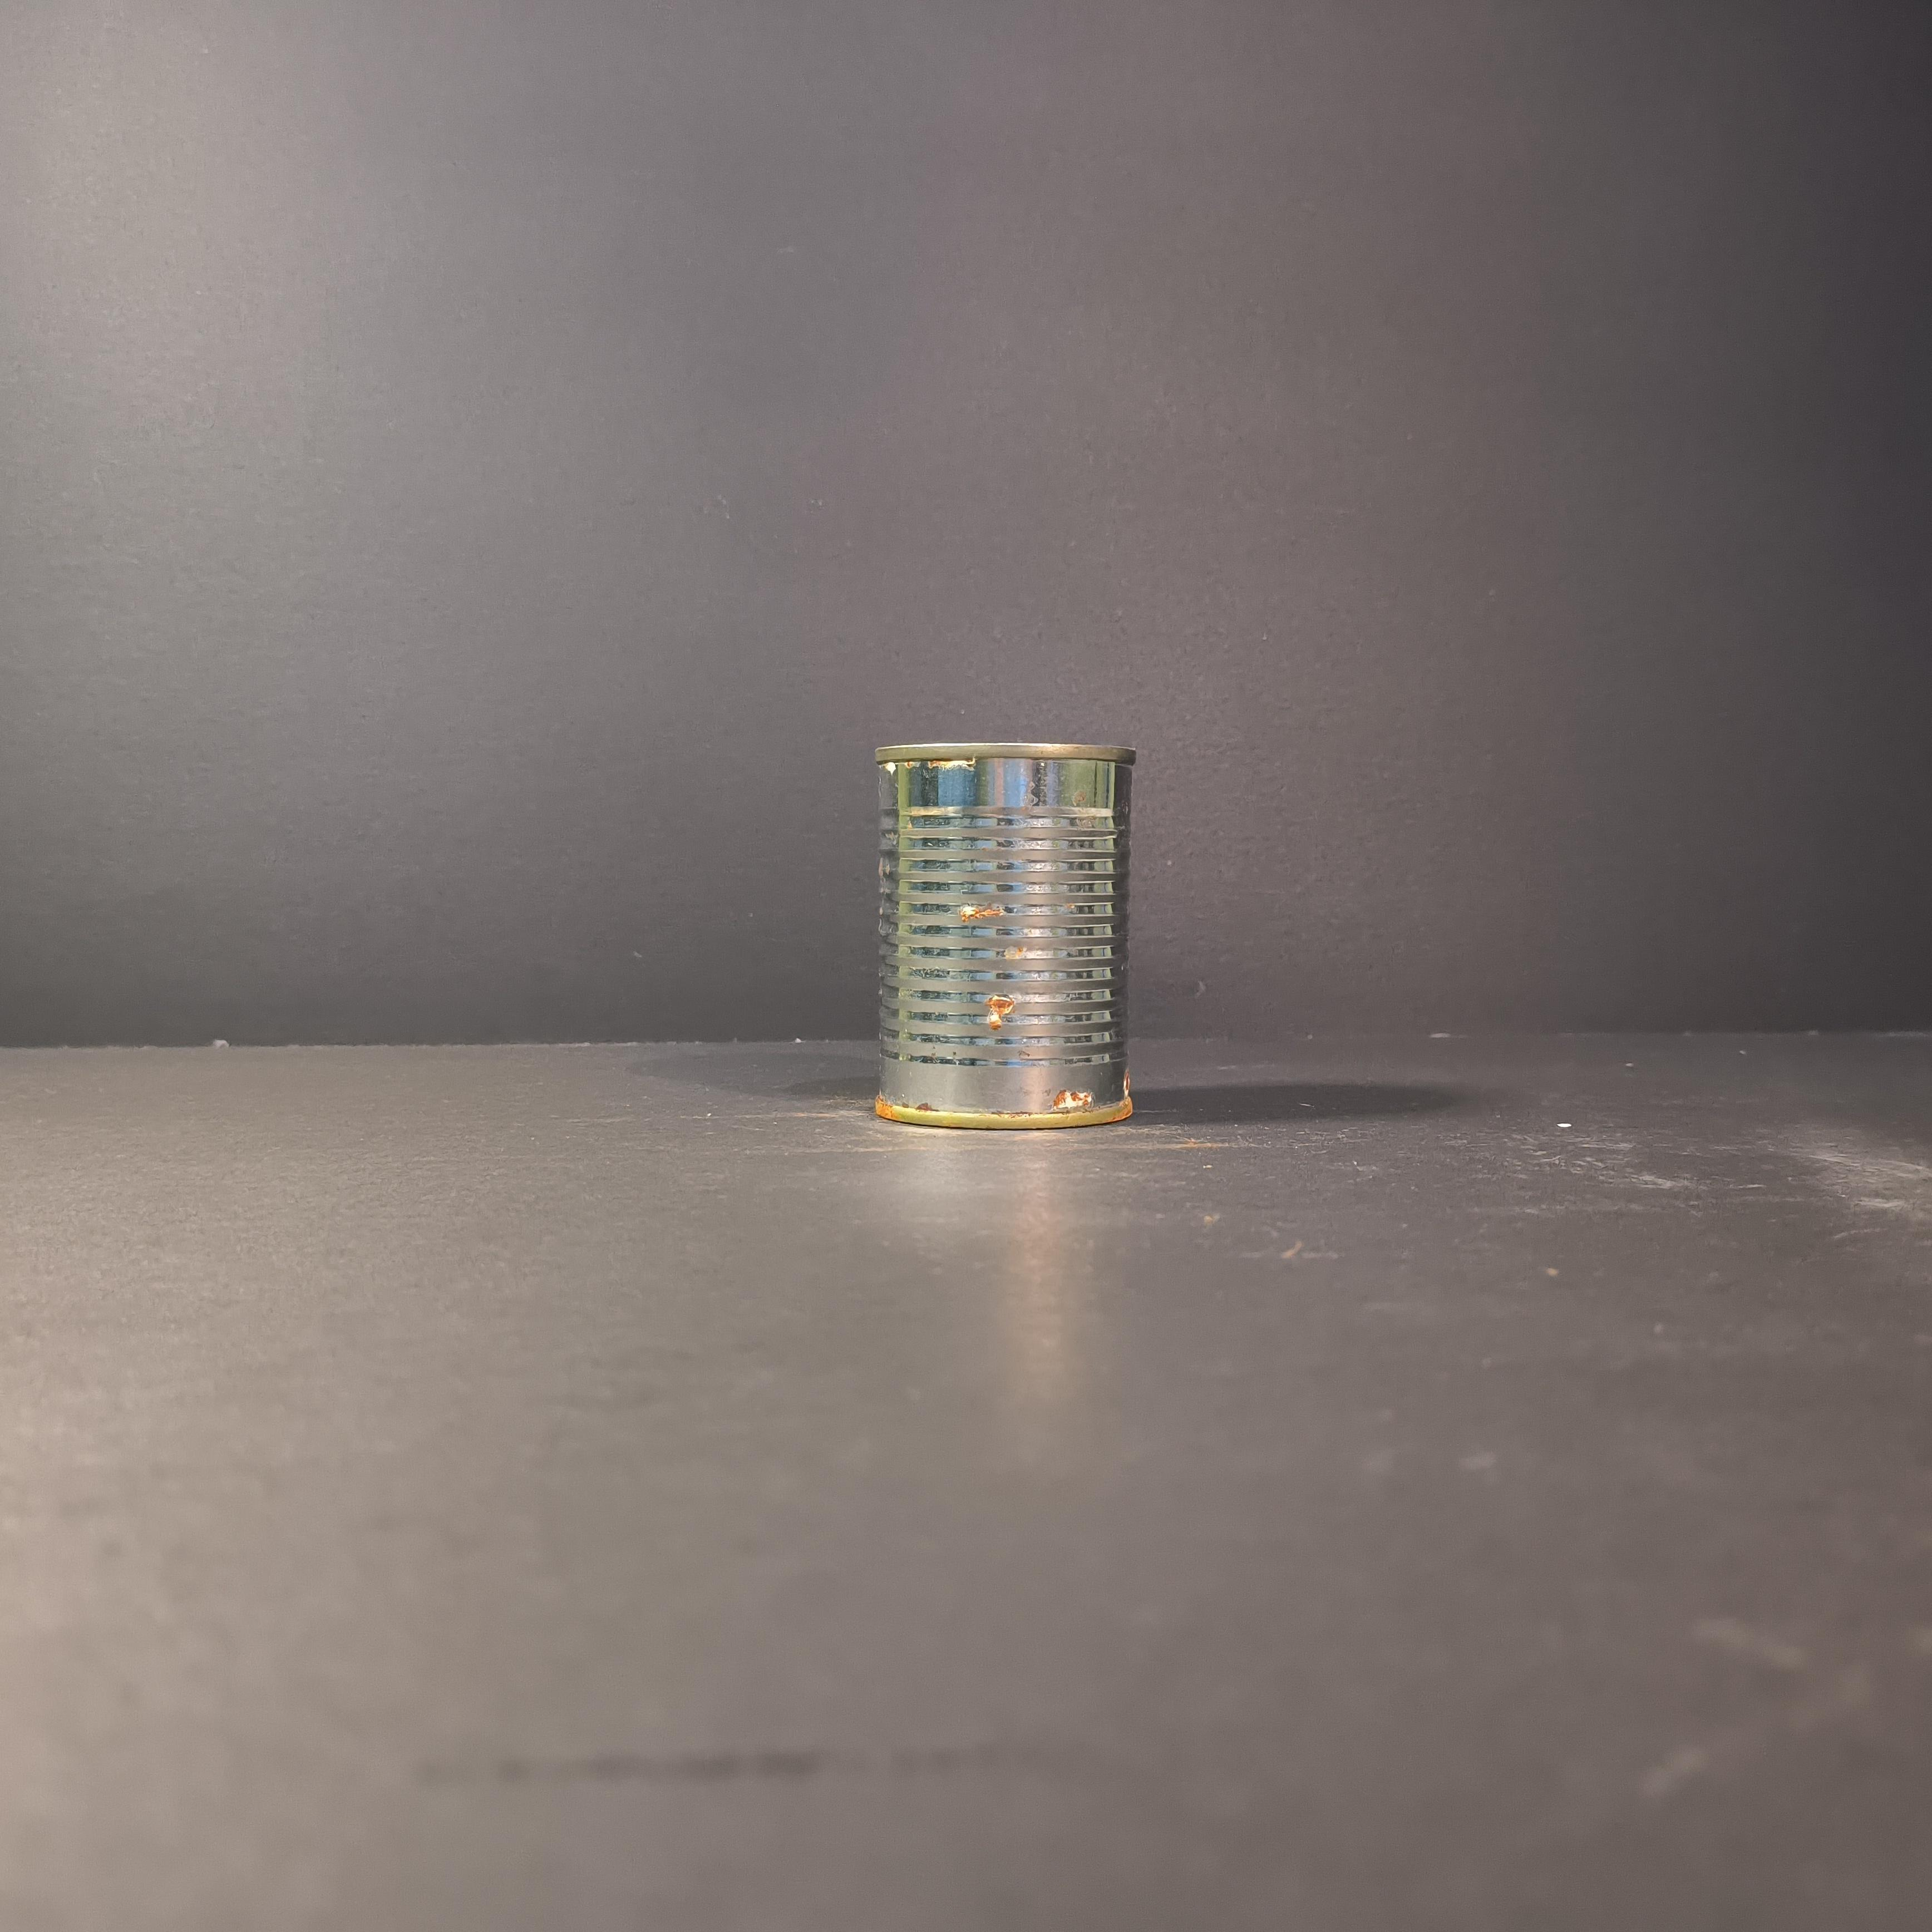Rusted: (855, 724, 1155, 1136)
